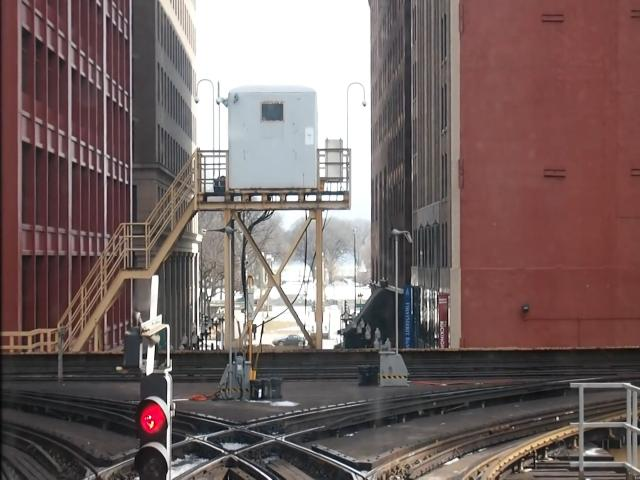signal light: (133, 368, 177, 480)
